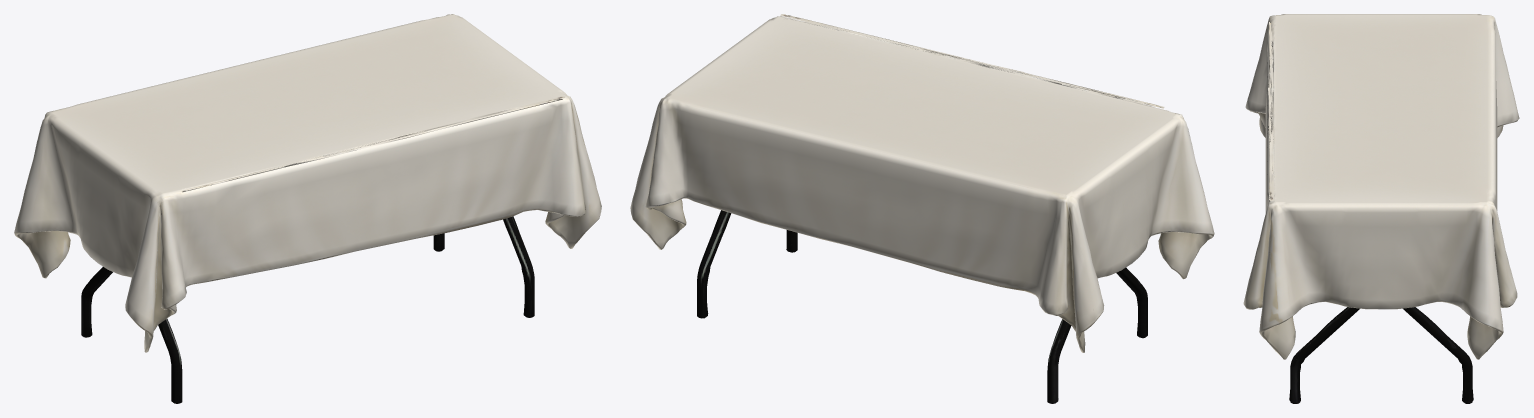
Rendered from BNQ_TBLE_IVORYLINEN_H_0630194436_texture.glb.
The picture shows the model from 3 angles, left to right: view 1: azimuth 30°, elevation 25°; view 2: azimuth 150°, elevation 25°; view 3: azimuth 270°, elevation 25°; orthographic projection. The views are drawn at different scales.
Parts seen in each view (by area): view 1: Mesh_0; view 2: Mesh_0; view 3: Mesh_0.
Part boxes in pixels (bbox=[...]): Mesh_0: bbox=[14, 14, 601, 403]; Mesh_0: bbox=[630, 14, 1214, 403]; Mesh_0: bbox=[1243, 14, 1519, 403].
Size of the model in its own units: 1.69 by 0.762 by 0.8971.
1 material, 1 textured.
